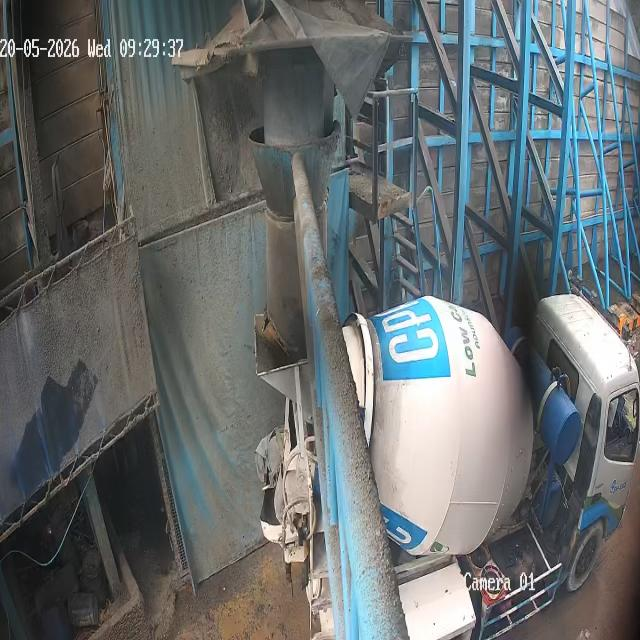cement_mixer_truck: (255, 289, 639, 639)
swing_chute: (248, 125, 348, 360)
